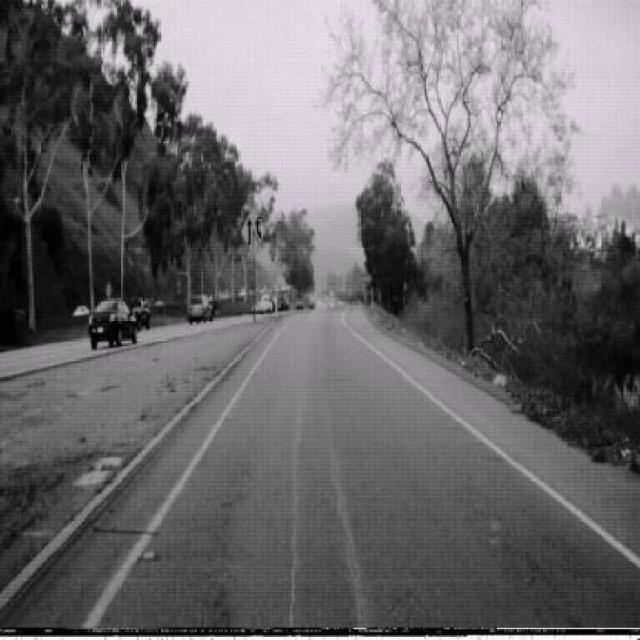addedLane: (240, 203, 266, 255)
